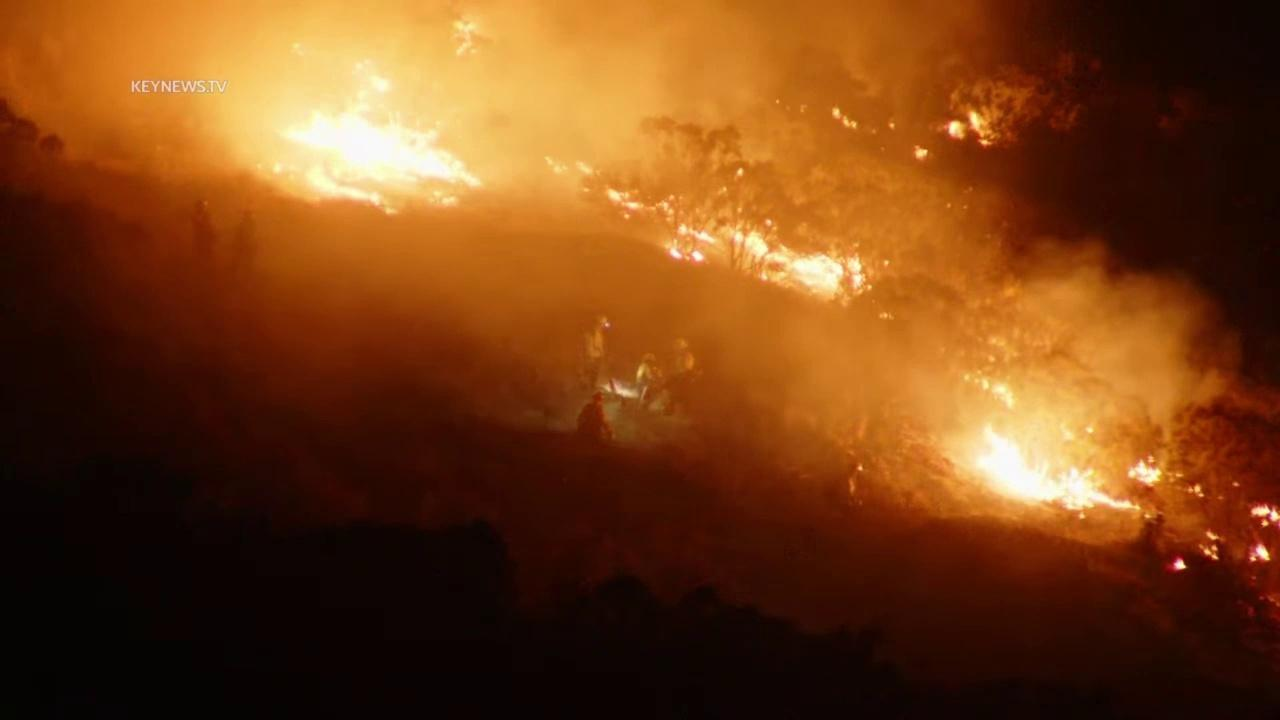fire: (255, 60, 485, 217), (974, 415, 1145, 515), (723, 230, 874, 302), (574, 158, 645, 221), (960, 369, 1020, 412), (449, 14, 480, 59), (1128, 453, 1163, 488), (970, 109, 999, 146), (1246, 498, 1280, 529), (1198, 527, 1226, 562), (674, 224, 718, 246), (830, 105, 861, 131), (1246, 539, 1272, 566), (664, 249, 707, 265), (946, 120, 971, 144), (545, 157, 570, 177), (911, 142, 930, 162), (1183, 484, 1206, 500), (1169, 557, 1187, 571), (763, 217, 775, 228), (734, 167, 745, 179)
smoke: (0, 0, 1280, 635)
